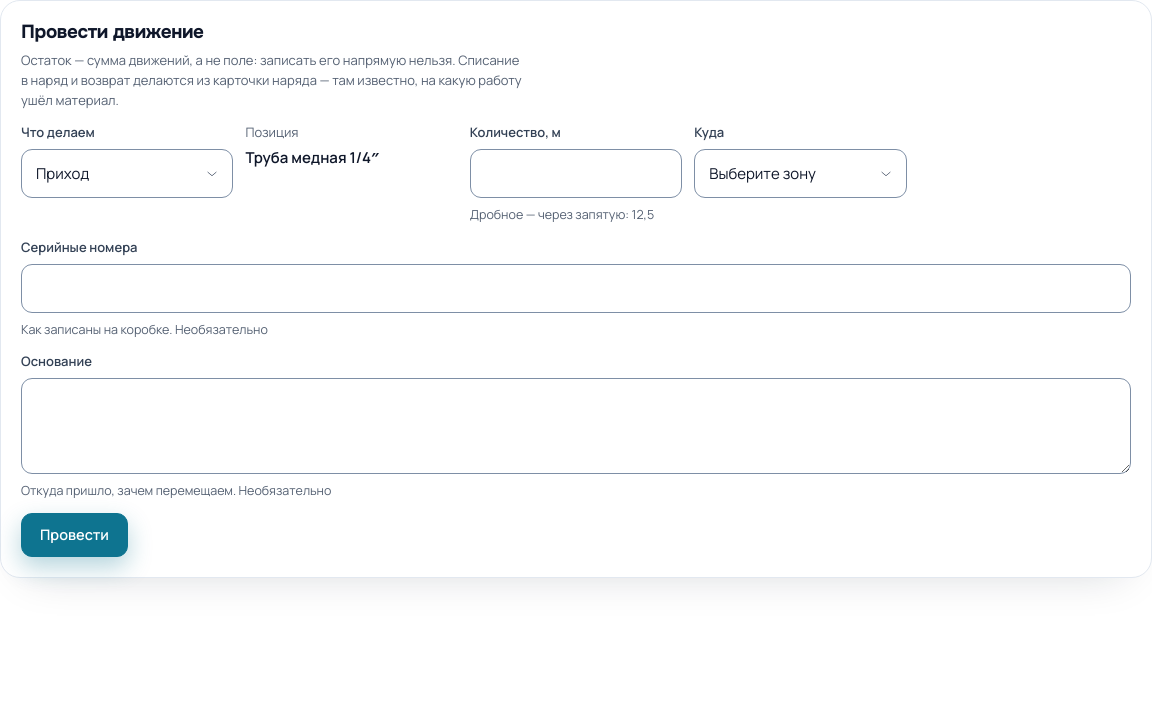
Форма движения › перемещение в ту же зону не проводится
Select "Перемещение" in the dropdown labelled "Что делаем" at (127, 174), box [21, 149, 233, 198]
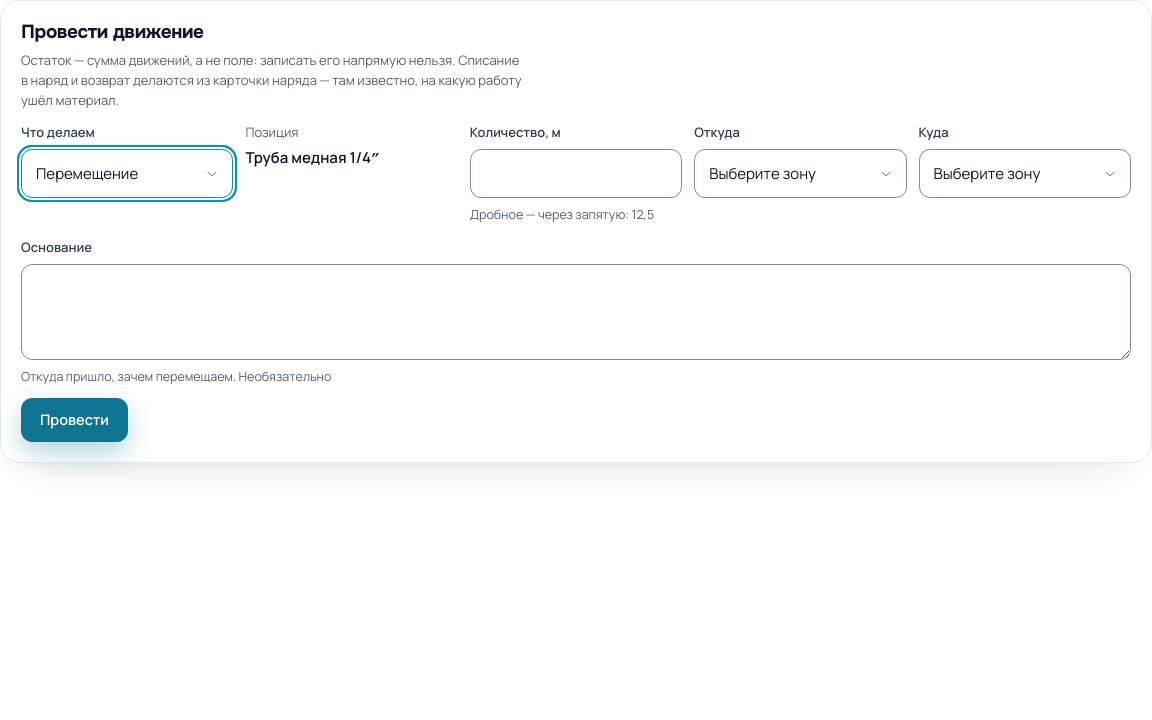
Type "15" into the field labelled "Количество, м" at (576, 174), box [470, 149, 682, 198]
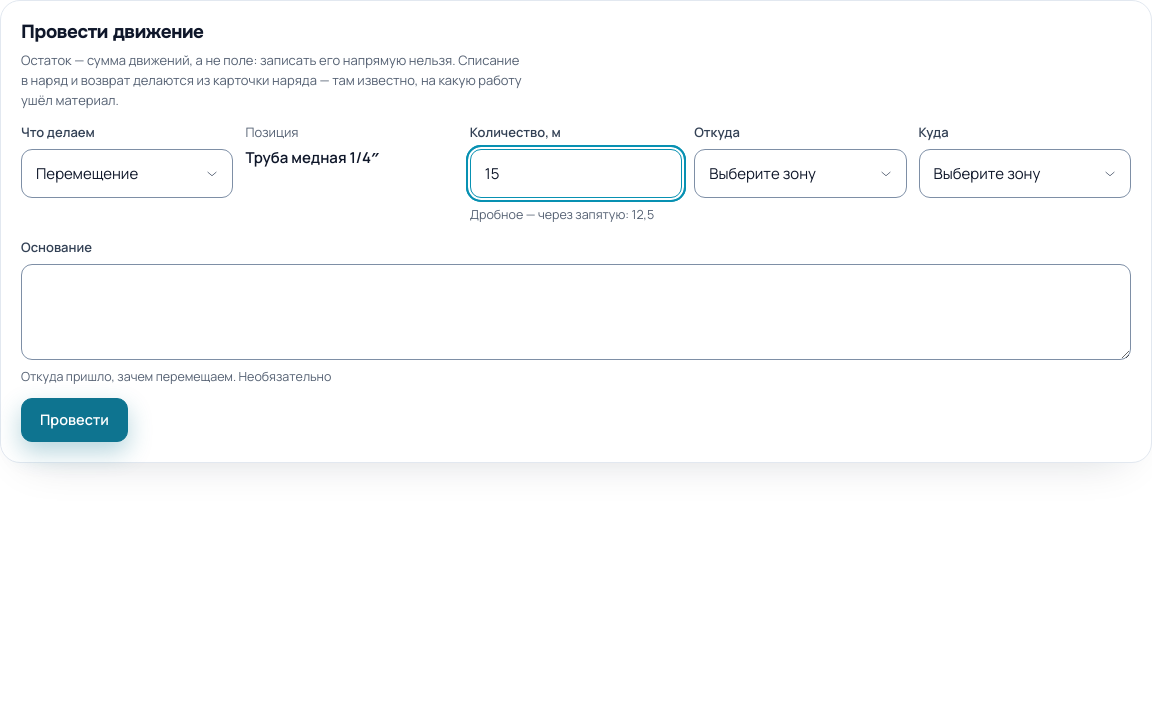
Select "Гараж на Демидовской" in the dropdown labelled "Откуда" at (800, 174), box [694, 149, 907, 198]
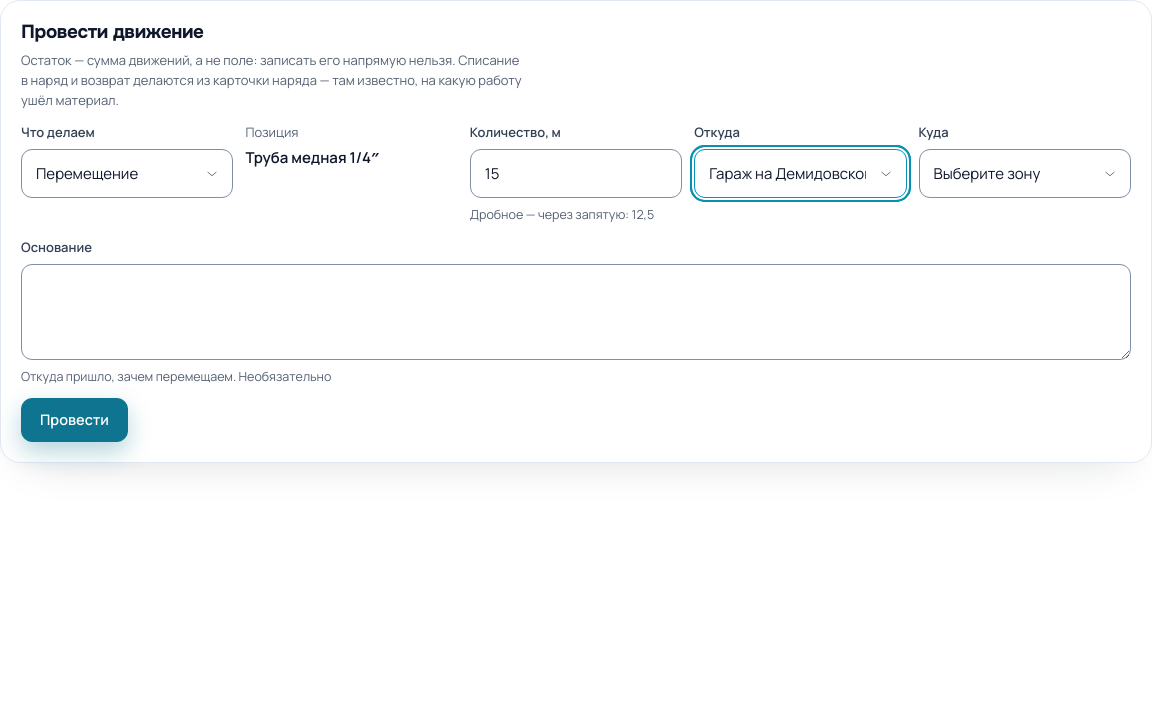
Select "Гараж на Демидовской" in the dropdown labelled "Куда" at (1025, 174), box [919, 149, 1131, 198]
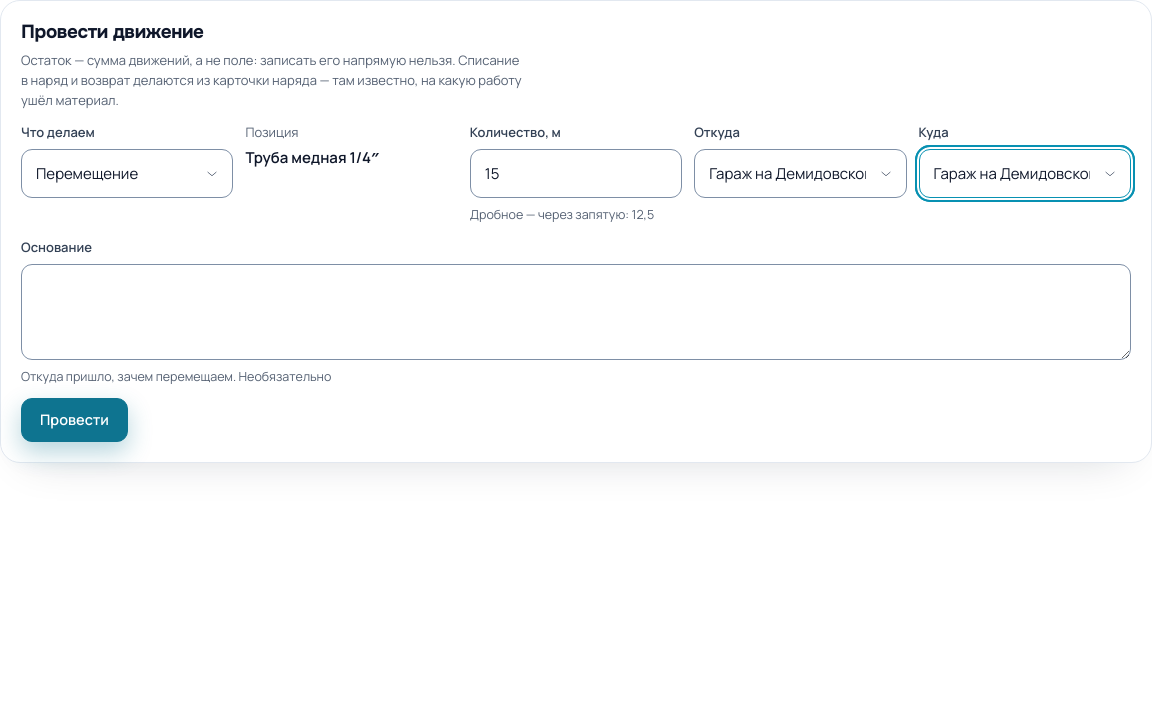
Click the button "Провести" at (74, 420), box [21, 398, 128, 442]
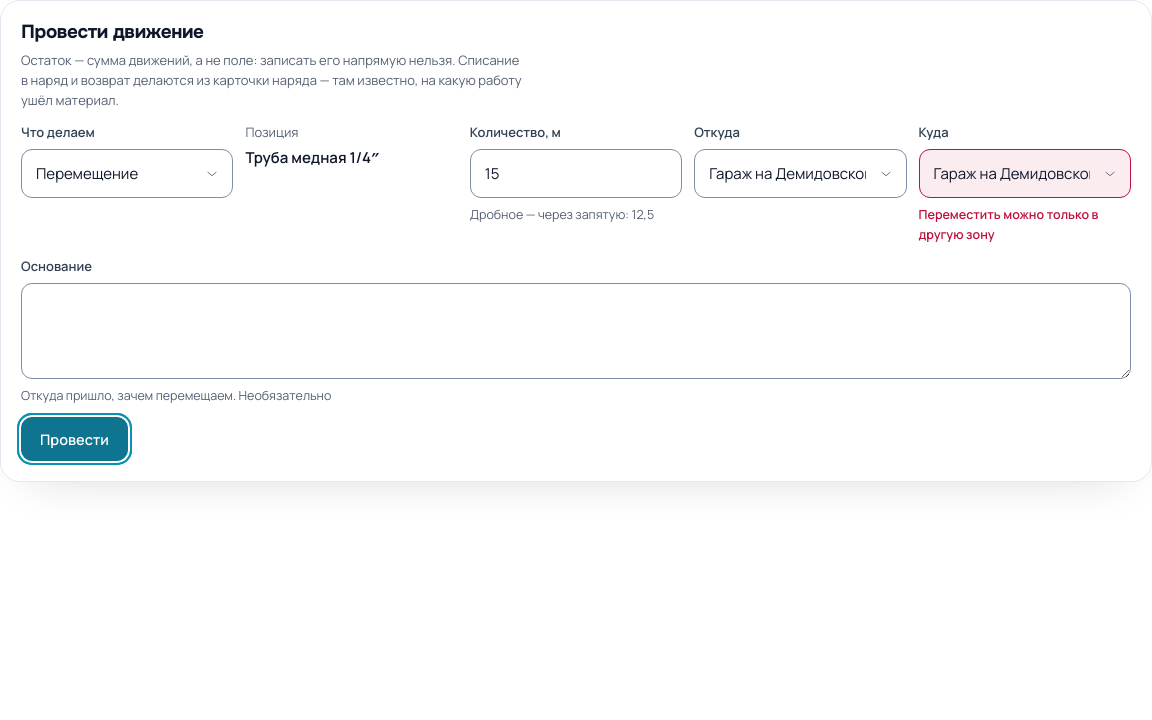
Expected: the text "Переместить можно только в другую зону" is shown, [919, 206, 1098, 243]
